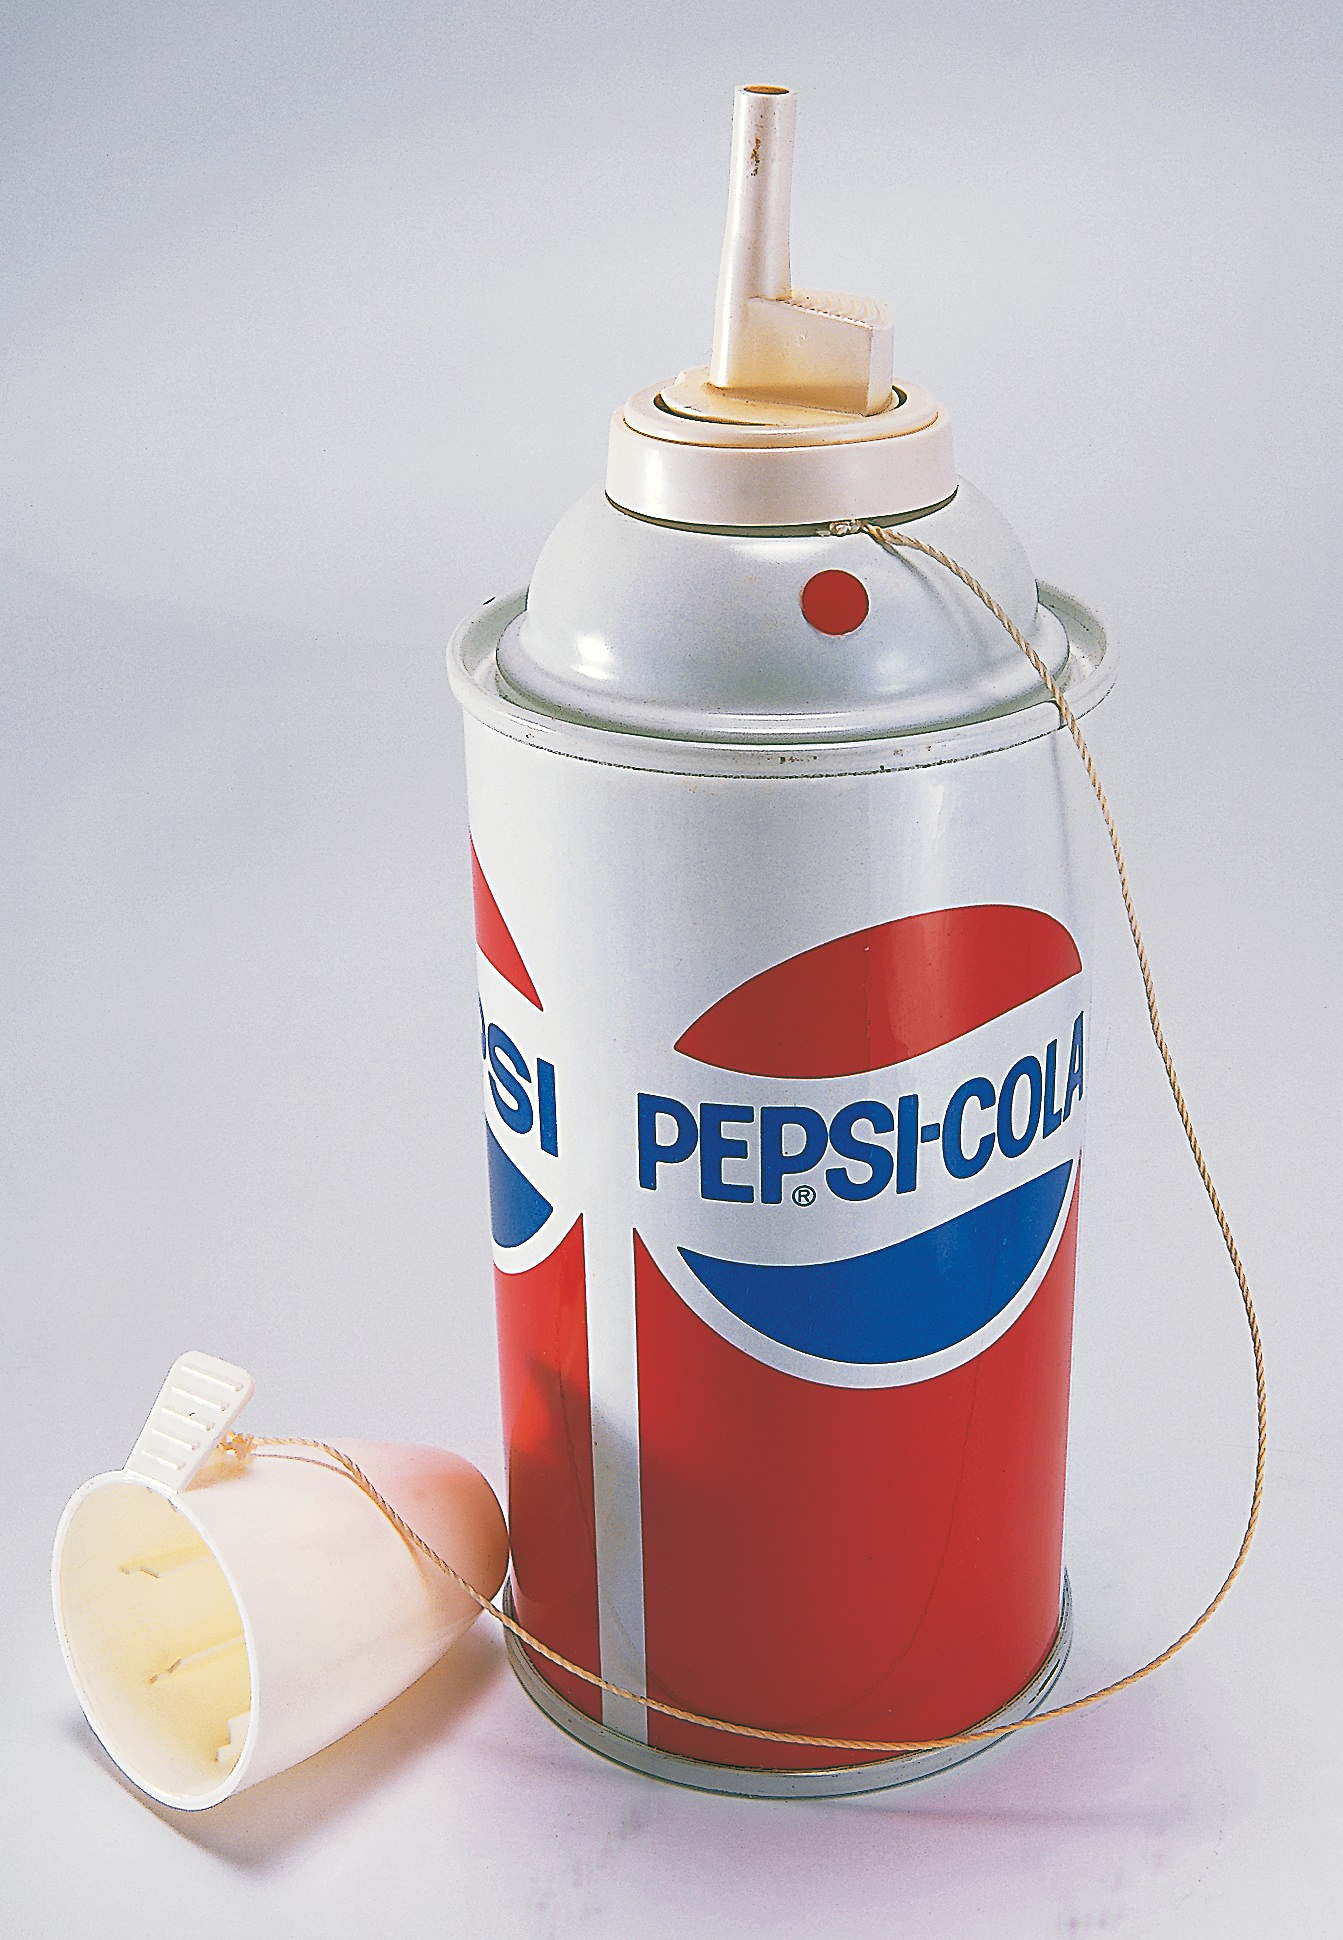pepsi: (632, 893, 1095, 1362), (632, 927, 1095, 1362)
